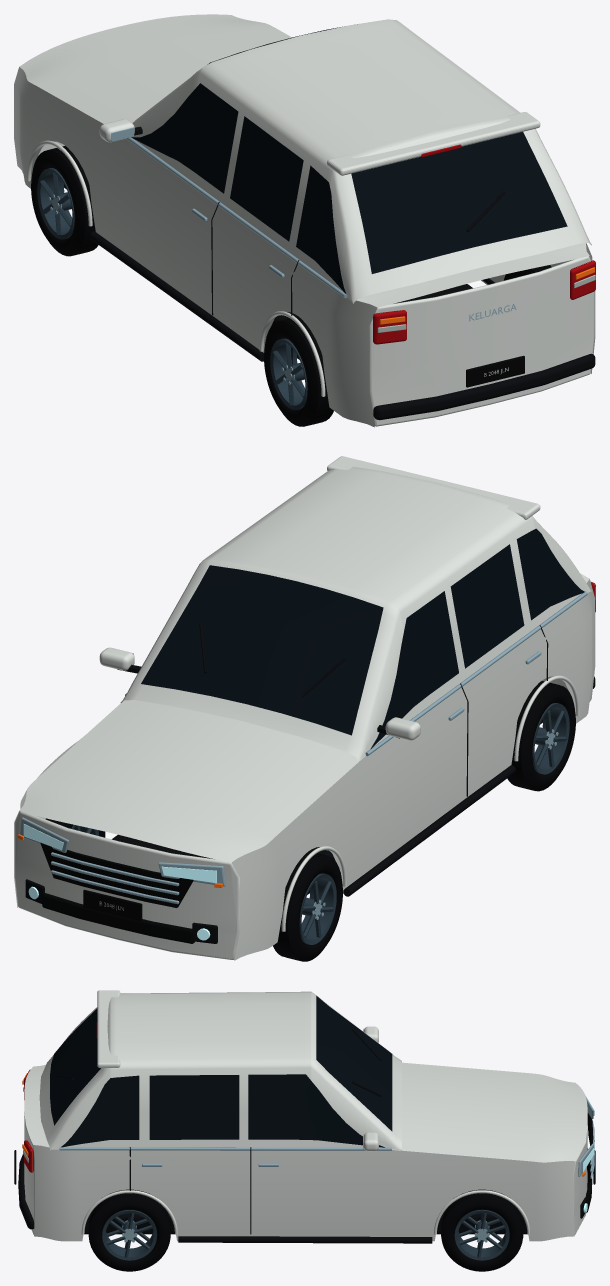
Rendered from Body.fbx.
The picture shows the model from 3 angles, top to bottom: view 1: azimuth 30°, elevation 25°; view 2: azimuth 150°, elevation 25°; view 3: azimuth 270°, elevation 25°; orthographic projection. The views are drawn at different scales.
Visible parts, largest first — view 1: Body_Mesh, Wheel_RL_Mesh, Wheel_FL_Mesh, TailLights_Mesh; view 2: Body_Mesh, Wheel_FL_Mesh, Wheel_RL_Mesh, Headlights_Mesh; view 3: Body_Mesh, Wheel_FR_Mesh, Wheel_RR_Mesh, Headlights_Mesh.
Part boxes in pixels (x1,y1,x2,y2): Body_Mesh: (14,14,595,427); Wheel_RL_Mesh: (264,316,333,426); Wheel_FL_Mesh: (31,146,98,256); TailLights_Mesh: (373,144,595,344); Body_Mesh: (14,456,595,960); Wheel_FL_Mesh: (273,851,342,961); Wheel_RL_Mesh: (507,681,575,791); Headlights_Mesh: (20,817,225,940); Body_Mesh: (14,990,595,1243); Wheel_FR_Mesh: (441,1193,523,1271); Wheel_RR_Mesh: (88,1193,170,1271); Headlights_Mesh: (578,1095,594,1212).
Size of the model in its own units: 215 by 175 by 454.
